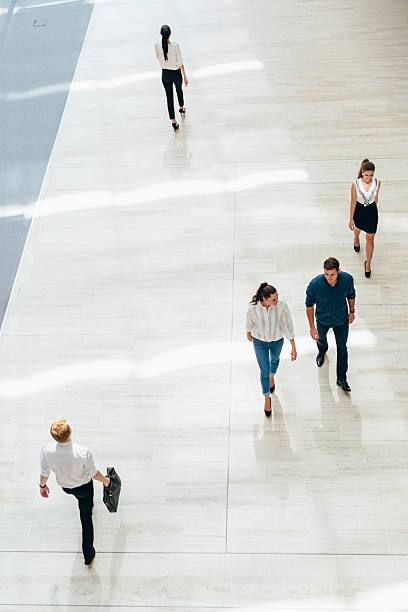Person: (33, 417, 129, 576), (298, 258, 362, 400), (235, 278, 297, 416), (150, 19, 194, 135), (347, 152, 384, 280)
